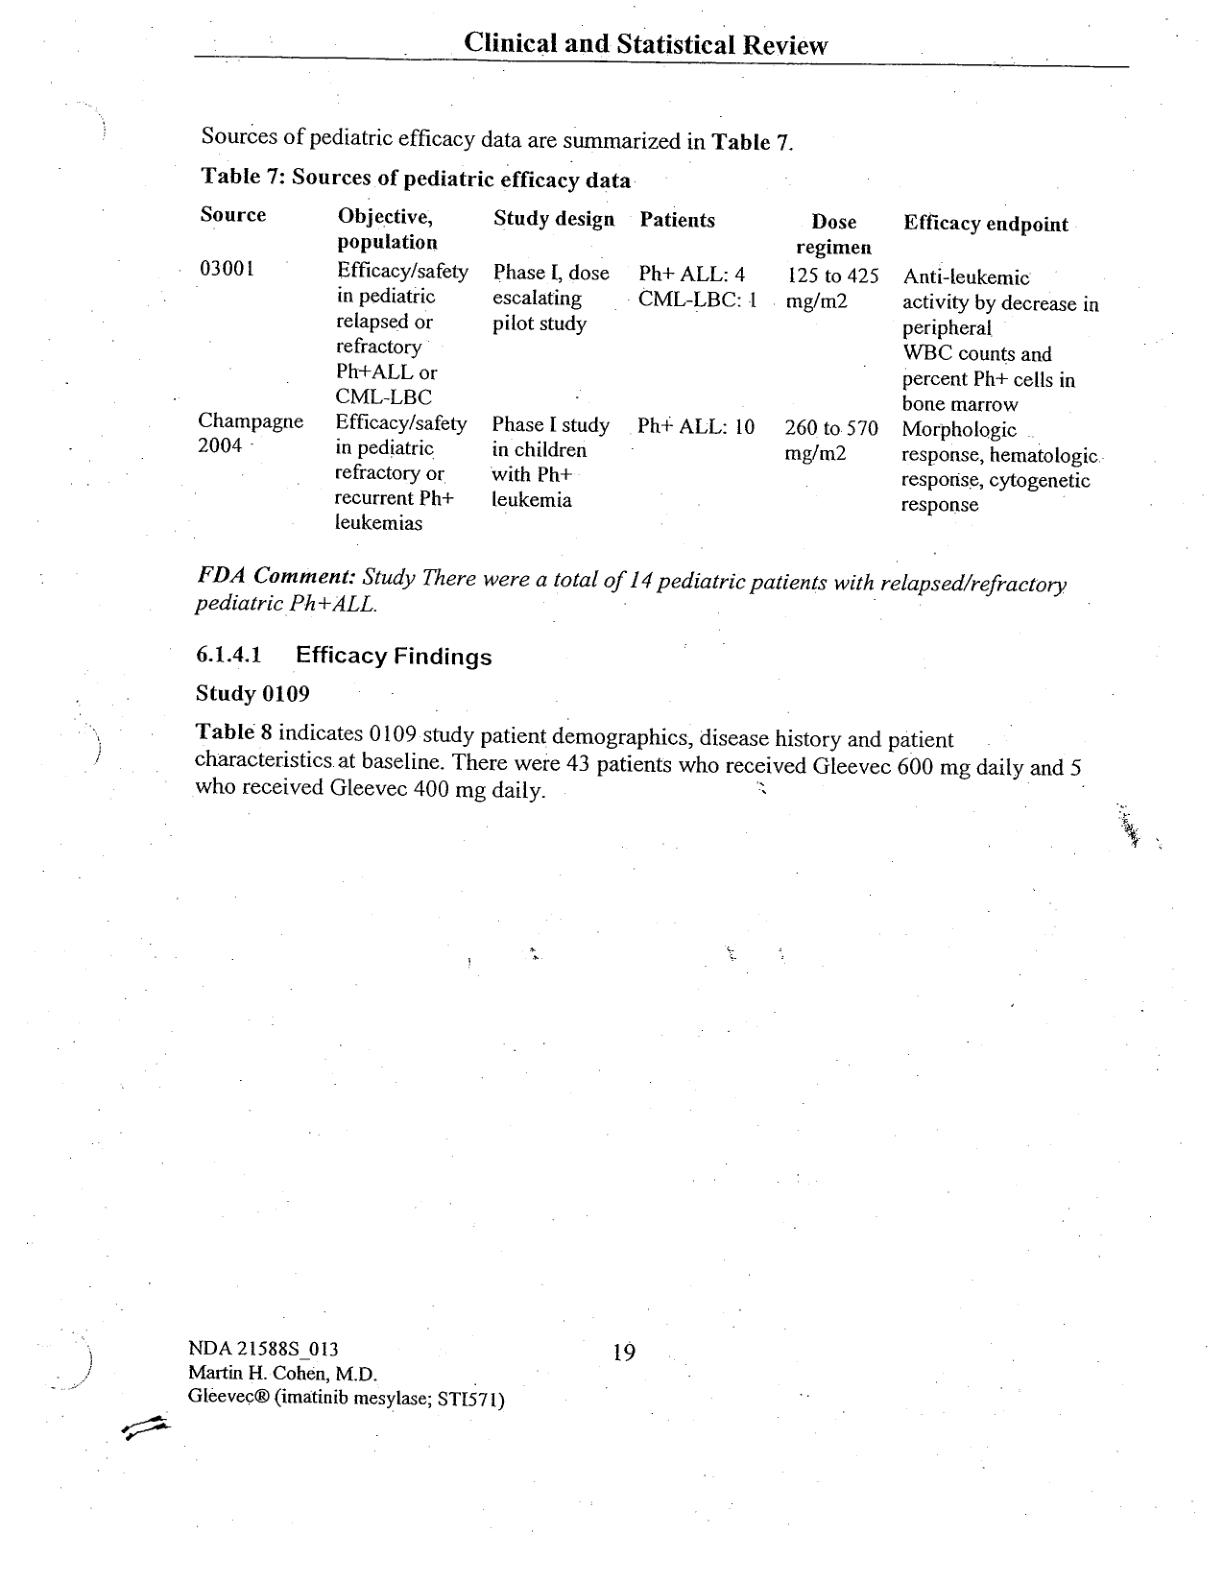nolines: (191, 200, 1103, 535)
